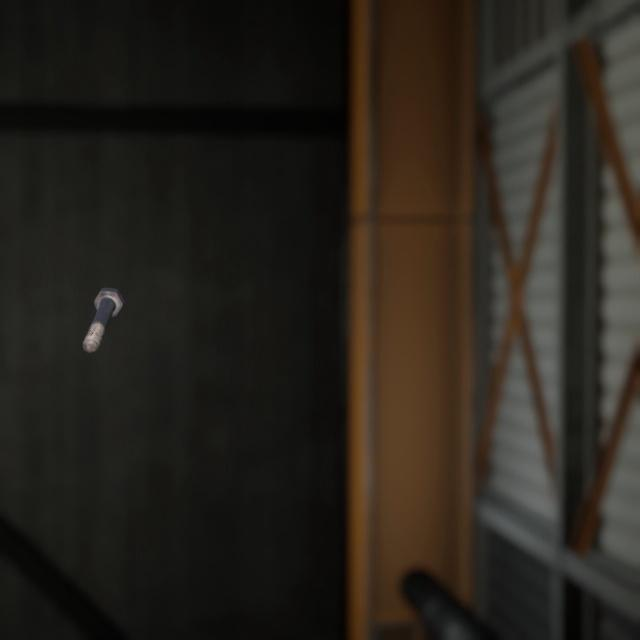bolt: (78, 266, 128, 339)
